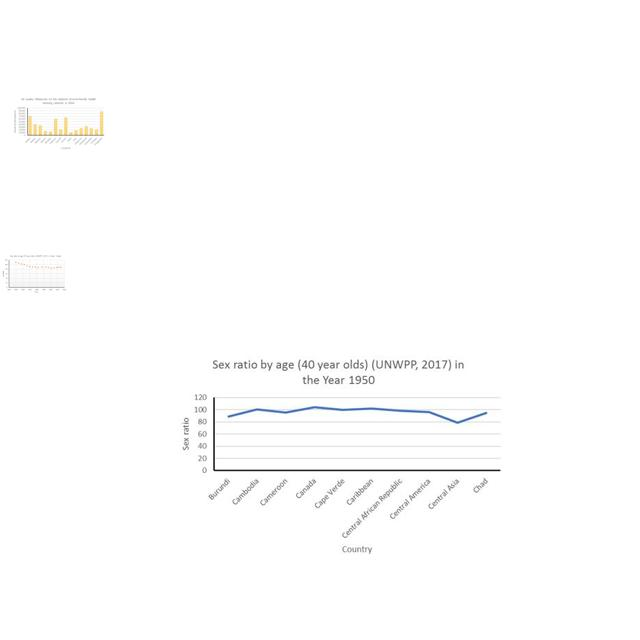Graph: (174, 350, 505, 560), (11, 96, 106, 151), (1, 253, 67, 293)
